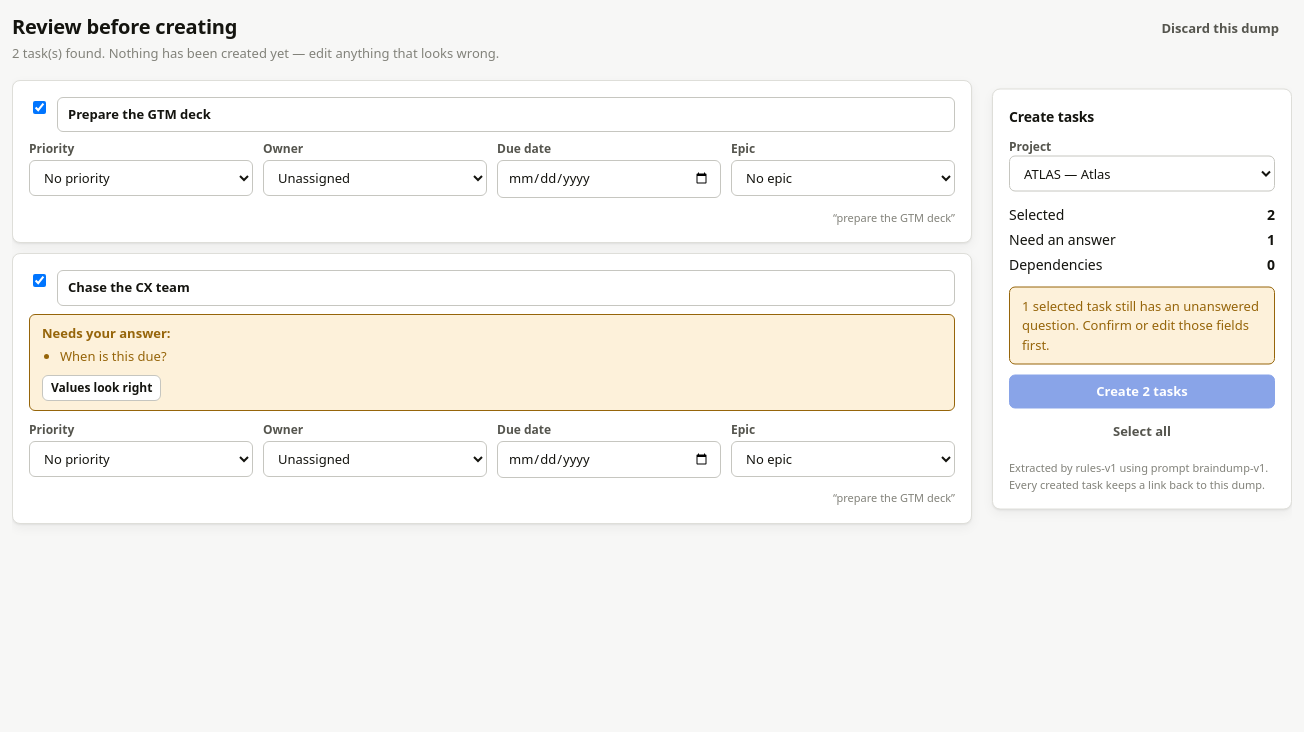
Test case: ProposalReview › lets the user drop a task instead of answering its question
The image size is (1304, 732).
Expected: the button "Create 2 tasks" is disabled, [1009,374,1275,408]
Click the checkbox named "Include \"Chase the CX team\"".
click(40, 280)  # box [33,274,46,287]
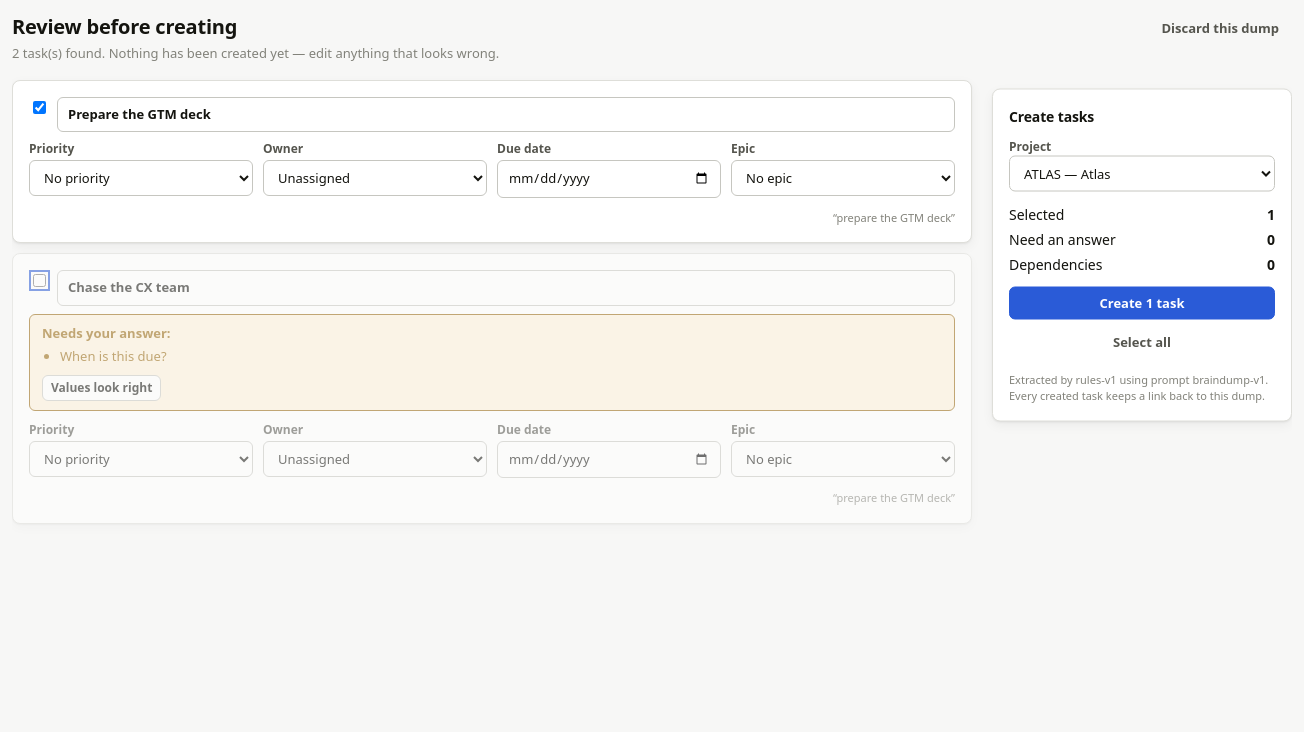
Expected: the button "Create 1 task" is enabled, [1009,286,1275,320]
